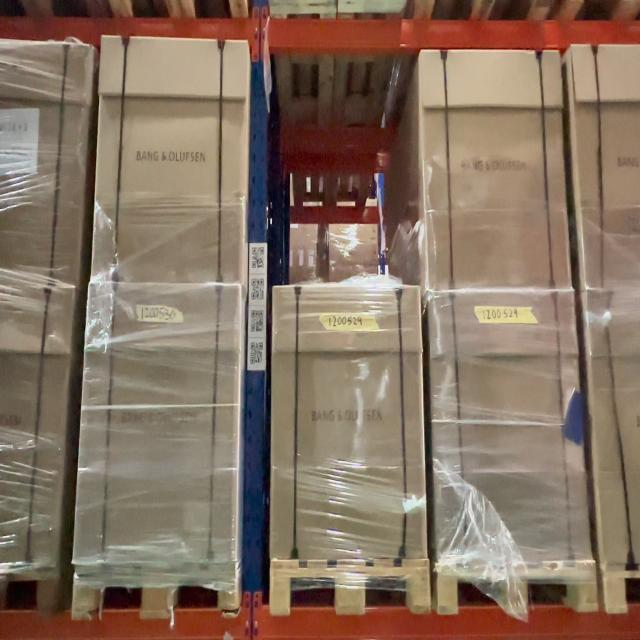box: (73, 286, 241, 567), (429, 288, 593, 560), (271, 286, 428, 562), (91, 34, 247, 286), (420, 50, 573, 292)
